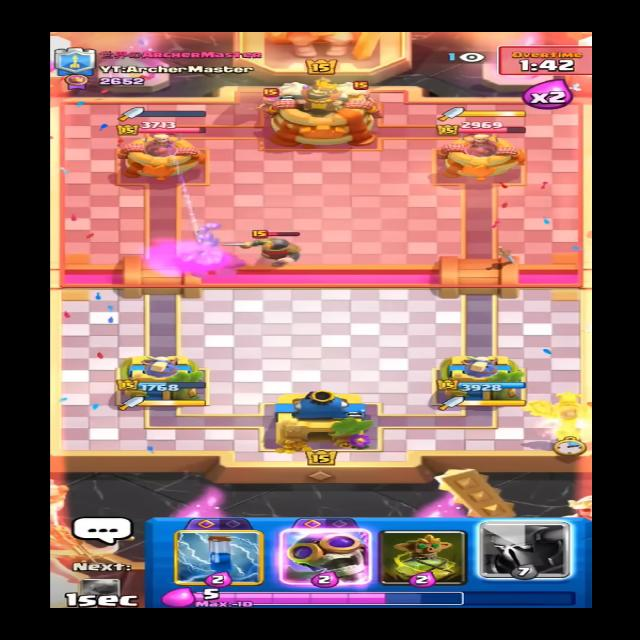Archer: (252, 88, 284, 113)
Knight: (242, 226, 316, 271)
